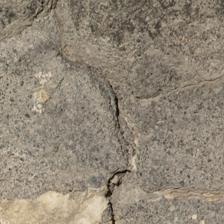Crack: (51, 84, 86, 140)
